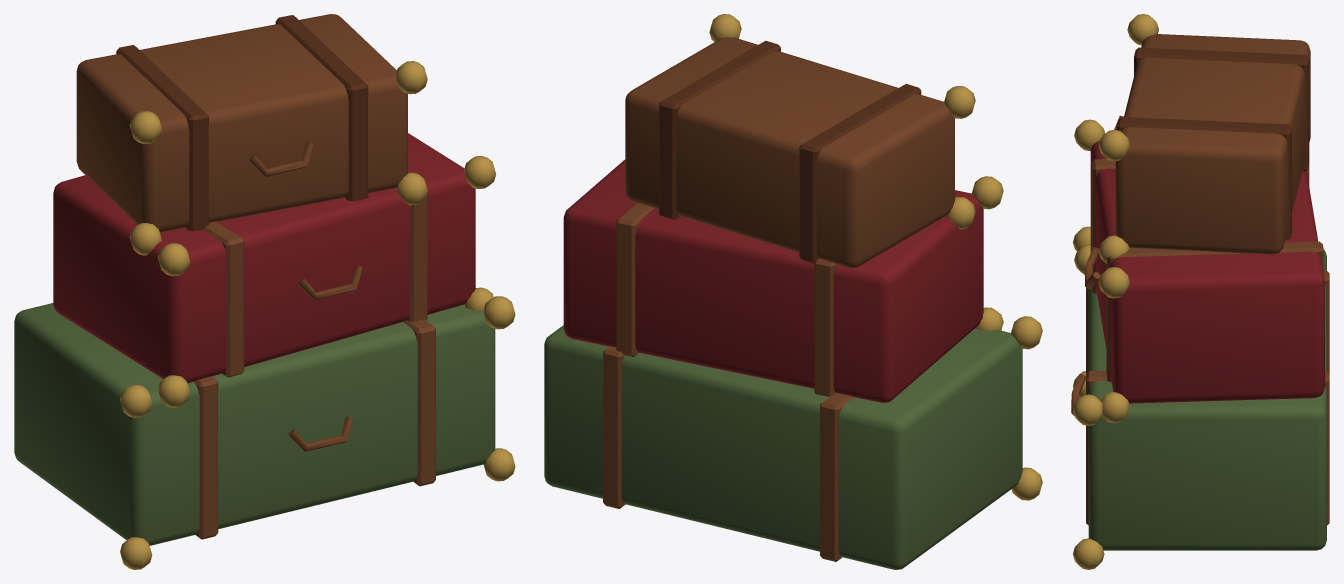
Rendered from PR_Trunks.fbx.
3 views of the same model, side by side, from view 1: azimuth 30°, elevation 25°; view 2: azimuth 150°, elevation 25°; view 3: azimuth 270°, elevation 25° (orthographic). The views are drawn at different scales.
Parts seen in each view (by area): view 1: PR_Trunks_TrunkGreen, PR_Trunks_TrunkBrown, PR_Trunks_TrunkRed, PR_Trunks_Brass, PR_Trunks_WoodDark; view 2: PR_Trunks_TrunkGreen, PR_Trunks_TrunkBrown, PR_Trunks_TrunkRed, PR_Trunks_WoodDark, PR_Trunks_Brass; view 3: PR_Trunks_TrunkBrown, PR_Trunks_TrunkGreen, PR_Trunks_TrunkRed, PR_Trunks_Brass, PR_Trunks_WoodDark.
Part boxes in pixels (x1,y1,x2,y2): PR_Trunks_TrunkGreen: (14,303,495,545); PR_Trunks_TrunkBrown: (76,14,435,539); PR_Trunks_TrunkRed: (53,133,475,383); PR_Trunks_Brass: (120,61,515,569); PR_Trunks_WoodDark: (116,15,368,231); PR_Trunks_TrunkGreen: (544,325,1022,569); PR_Trunks_TrunkBrown: (603,37,954,561); PR_Trunks_TrunkRed: (563,159,983,402); PR_Trunks_WoodDark: (659,40,921,263); PR_Trunks_Brass: (709,14,1042,500); PR_Trunks_TrunkBrown: (1071,34,1329,525); PR_Trunks_TrunkGreen: (1088,249,1326,550); PR_Trunks_TrunkRed: (1090,141,1324,403); PR_Trunks_Brass: (1073,14,1158,569); PR_Trunks_WoodDark: (1116,47,1309,239).
Size of the model in its own units: 0.81 by 0.84 by 0.4876.
